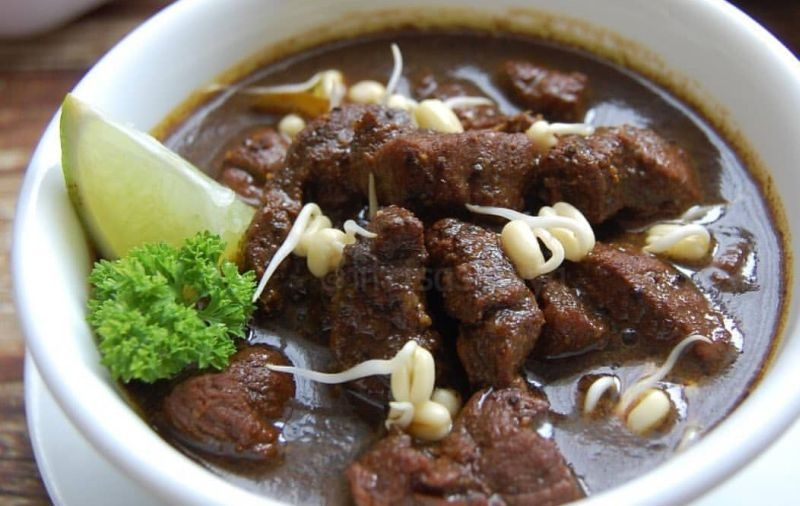rawon: (96, 28, 738, 427)
